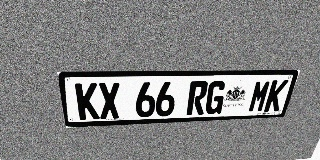6: (155, 82, 177, 117), (136, 82, 156, 117)
G: (204, 81, 227, 114)
K: (75, 83, 100, 120), (263, 80, 289, 112)
M: (247, 80, 272, 112)
R: (186, 81, 209, 115)
X: (98, 82, 120, 119)
